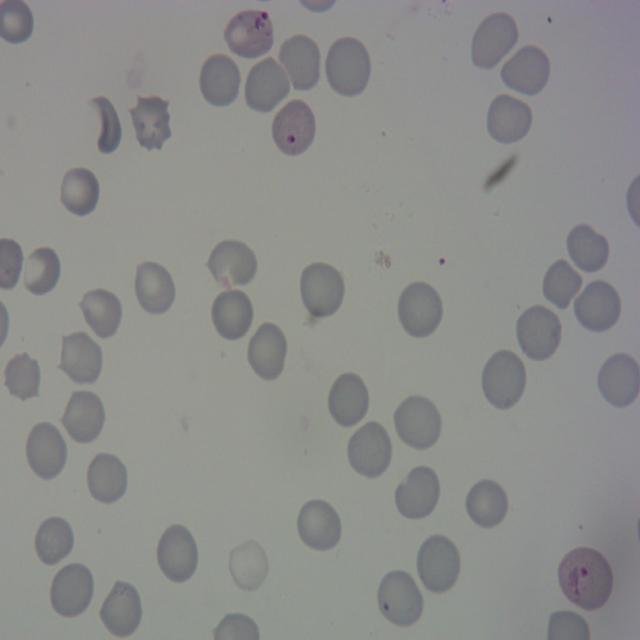leukocyte: (344, 417, 394, 483), (479, 346, 528, 413), (374, 567, 425, 631), (395, 278, 445, 341), (414, 531, 462, 596), (297, 258, 347, 320), (514, 302, 564, 363), (500, 42, 552, 100), (154, 521, 200, 586), (573, 277, 623, 336), (468, 11, 518, 70), (325, 35, 371, 99), (242, 56, 291, 116), (48, 560, 96, 621), (394, 462, 442, 522), (246, 318, 290, 383), (484, 90, 534, 147), (393, 395, 442, 452), (58, 328, 104, 388), (132, 257, 177, 318), (326, 369, 371, 430), (197, 51, 243, 110), (77, 285, 124, 342), (84, 450, 130, 508), (595, 352, 640, 411), (129, 94, 173, 153), (210, 286, 256, 342), (564, 220, 610, 276), (464, 476, 510, 531), (58, 392, 104, 446), (57, 162, 101, 218), (96, 578, 140, 634), (278, 34, 320, 92), (224, 538, 268, 592), (33, 513, 76, 568), (19, 243, 62, 298), (25, 422, 65, 481), (208, 238, 259, 284), (296, 496, 341, 548), (2, 351, 42, 405), (542, 259, 580, 310), (91, 96, 120, 152)
red blood cell: (557, 544, 615, 612), (222, 6, 275, 61)
